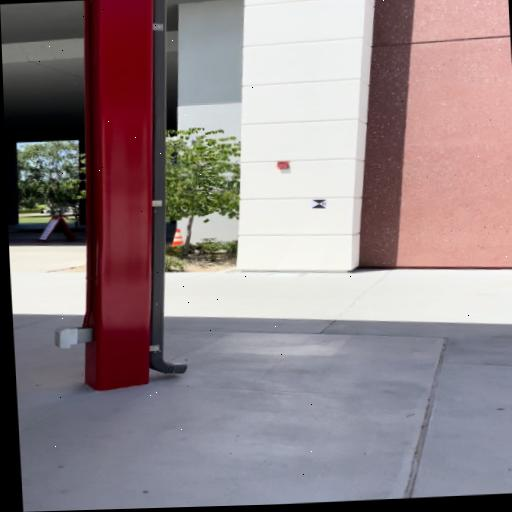target6: (312, 199, 328, 209)
